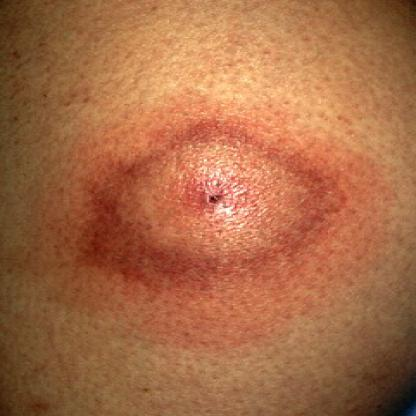Tick: (41, 111, 386, 355)
